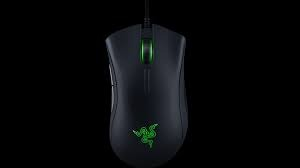mouse: (103, 19, 199, 163)
